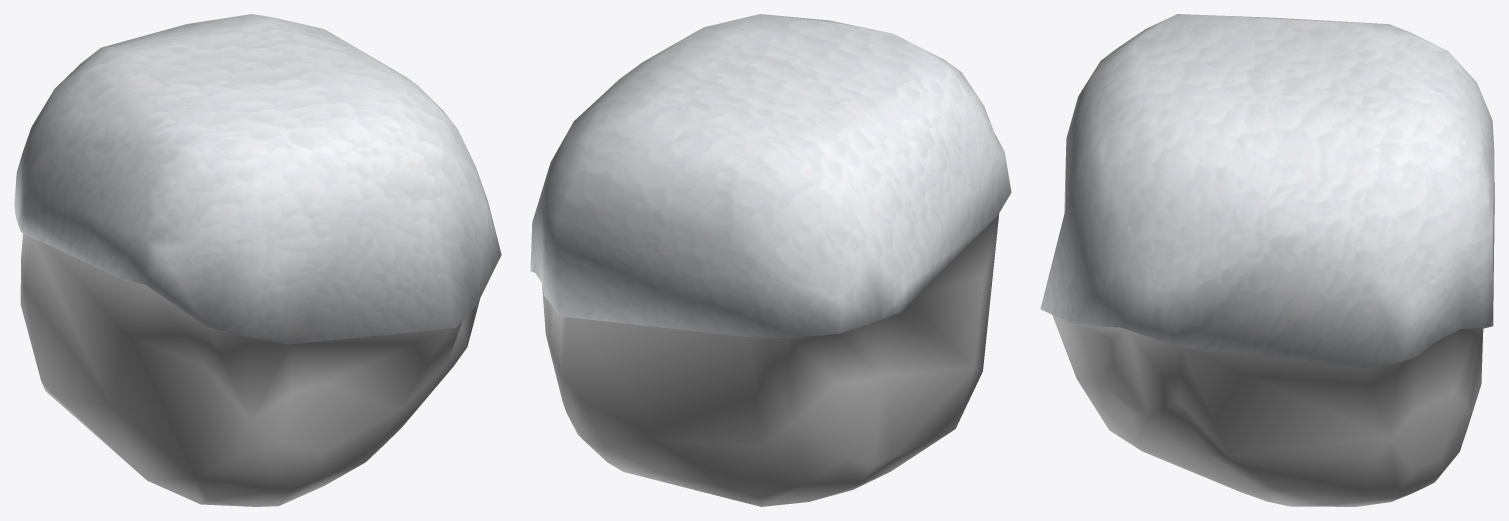
The model's file is rock_s03.fbx.
3 renders of one model, left to right at view 1: azimuth 30°, elevation 25°; view 2: azimuth 150°, elevation 25°; view 3: azimuth 270°, elevation 25°, orthographic. The views are drawn at different scales.
Visible parts, largest first — view 1: rock_s03; view 2: rock_s03; view 3: rock_s03.
Boxes of the visible parts, x1,y1,x2,y2 form: rock_s03: (14, 14, 501, 506); rock_s03: (530, 14, 1011, 506); rock_s03: (1040, 14, 1494, 506).
Size of the model in its own units: 217 by 208 by 223.
